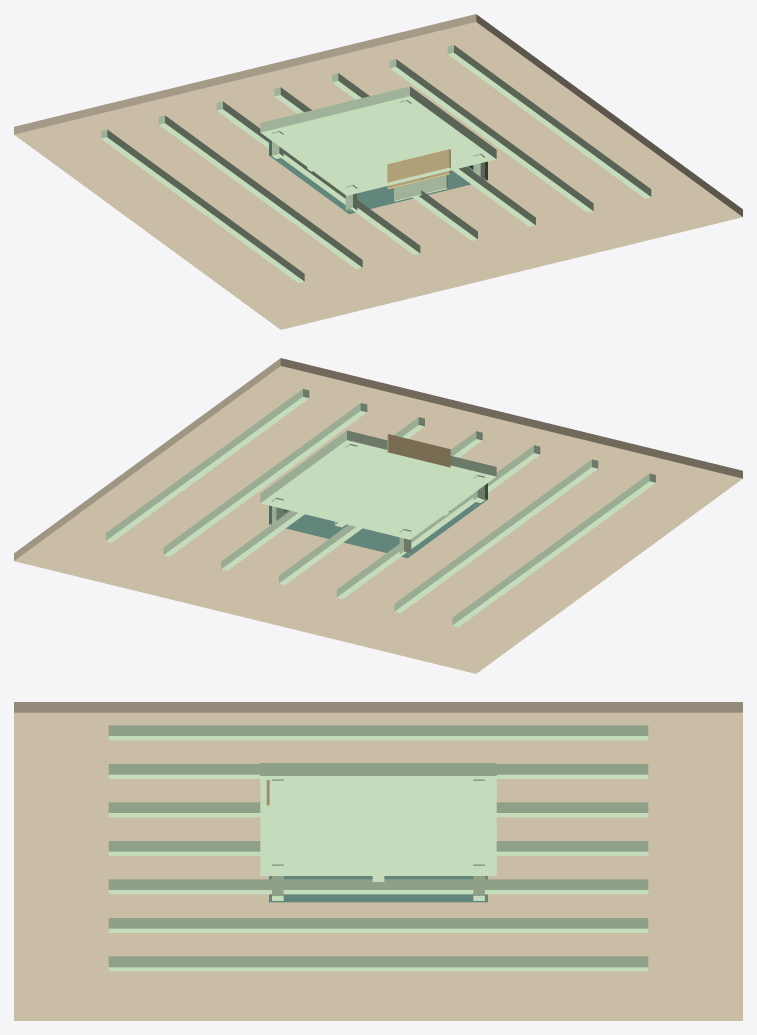
The model's file is field.glb.
3 views of the same model, one above another, from view 1: azimuth 30°, elevation 25°; view 2: azimuth 150°, elevation 25°; view 3: azimuth 270°, elevation 25° (orthographic). The views are drawn at different scales.
Parts seen in each view (by area): view 1: Foundation, Details, Roof, Walls, Frame; view 2: Foundation, Details, Roof, Walls, Frame; view 3: Foundation, Details, Roof, Walls, Frame.
Boxes of the visible parts, left/top/right/bottom form: Foundation: left=14, top=14, right=742, bottom=329; Details: left=101, top=45, right=651, bottom=283; Roof: left=260, top=86, right=496, bottom=195; Walls: left=269, top=139, right=487, bottom=214; Frame: left=272, top=100, right=484, bottom=210; Foundation: left=14, top=358, right=742, bottom=673; Details: left=105, top=389, right=655, bottom=627; Roof: left=260, top=430, right=496, bottom=539; Walls: left=269, top=483, right=487, bottom=558; Frame: left=272, top=444, right=484, bottom=554; Foundation: left=14, top=702, right=742, bottom=1020; Details: left=108, top=725, right=648, bottom=971; Roof: left=260, top=763, right=496, bottom=875; Walls: left=269, top=876, right=487, bottom=902; Frame: left=272, top=779, right=484, bottom=900.
Bounding box in the file's own units: 40 × 4 × 40.
